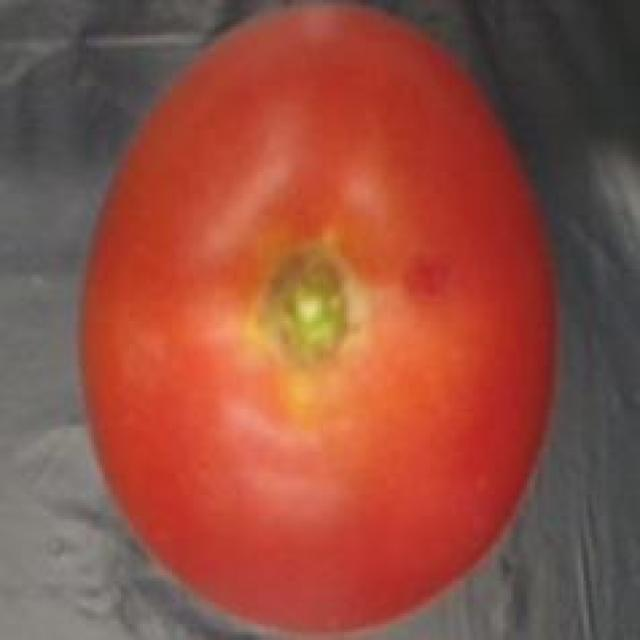ripe tomato: (65, 0, 568, 640)
